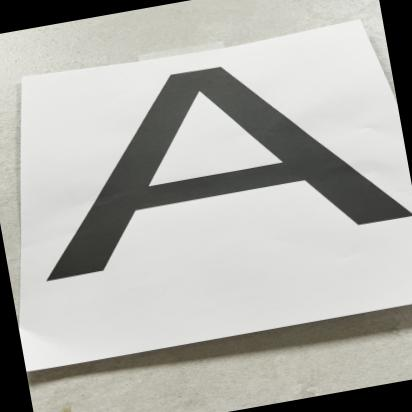seat: (1, 27, 412, 315)
